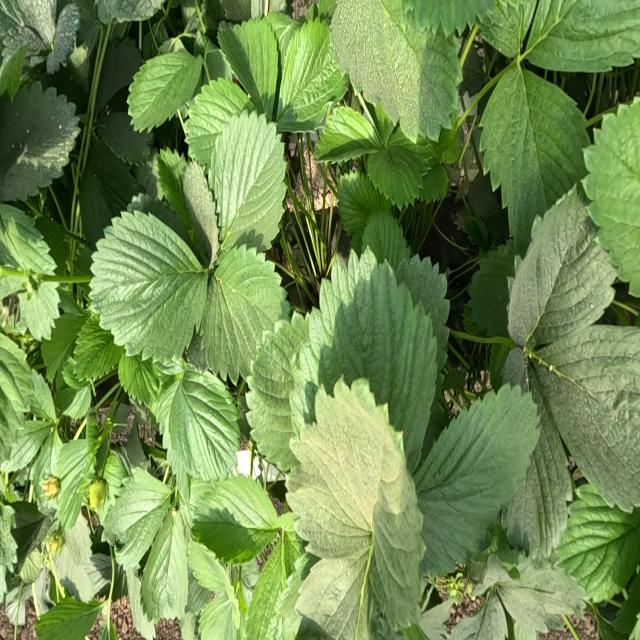Leaves: (288, 380, 425, 625), (291, 250, 437, 466), (417, 388, 538, 574), (533, 326, 639, 510), (483, 67, 588, 248), (333, 0, 460, 140), (90, 212, 206, 362), (508, 191, 616, 348), (201, 247, 288, 380), (583, 102, 639, 293), (210, 111, 286, 250), (502, 417, 571, 561), (246, 313, 307, 471), (554, 488, 639, 601), (0, 84, 79, 200), (168, 367, 239, 481), (529, 0, 639, 71), (192, 474, 278, 562), (278, 17, 346, 128), (0, 333, 54, 460), (104, 469, 171, 569), (128, 42, 201, 131), (297, 552, 369, 639), (498, 559, 584, 631), (218, 17, 278, 117), (80, 140, 136, 247), (398, 255, 449, 370), (184, 78, 252, 164), (367, 125, 436, 207), (54, 430, 108, 531), (140, 507, 187, 622), (466, 242, 515, 339), (242, 536, 286, 639), (54, 511, 104, 600), (157, 148, 199, 251), (55, 515, 103, 602), (0, 207, 55, 275), (338, 171, 389, 244), (314, 106, 376, 163), (183, 162, 219, 260), (96, 39, 142, 113), (72, 314, 123, 380), (403, 0, 494, 36), (479, 0, 536, 57), (0, 1, 55, 59), (41, 312, 86, 379), (362, 212, 411, 270), (35, 596, 101, 639), (47, 1, 86, 72), (98, 113, 151, 163), (31, 428, 61, 514), (3, 419, 52, 471), (118, 354, 164, 407), (21, 283, 59, 339), (200, 590, 239, 639), (97, 1, 162, 22), (502, 347, 528, 391), (428, 129, 460, 164), (420, 163, 448, 202), (19, 548, 44, 584), (221, 1, 251, 23)
Strawberries: (89, 481, 106, 507), (47, 532, 64, 553), (43, 478, 59, 498)
